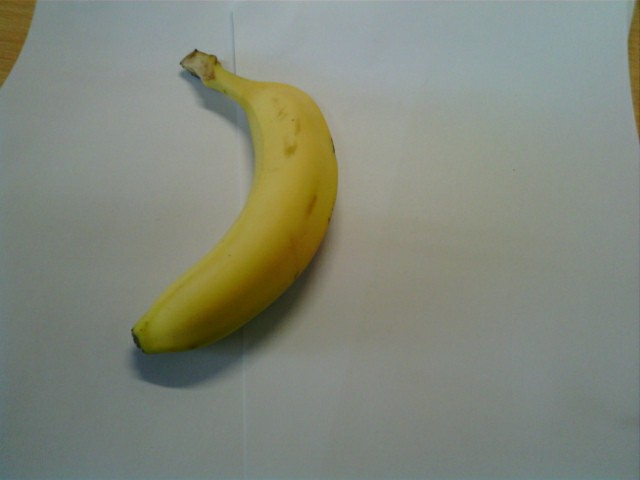fresh_banana: (124, 78, 338, 352)
